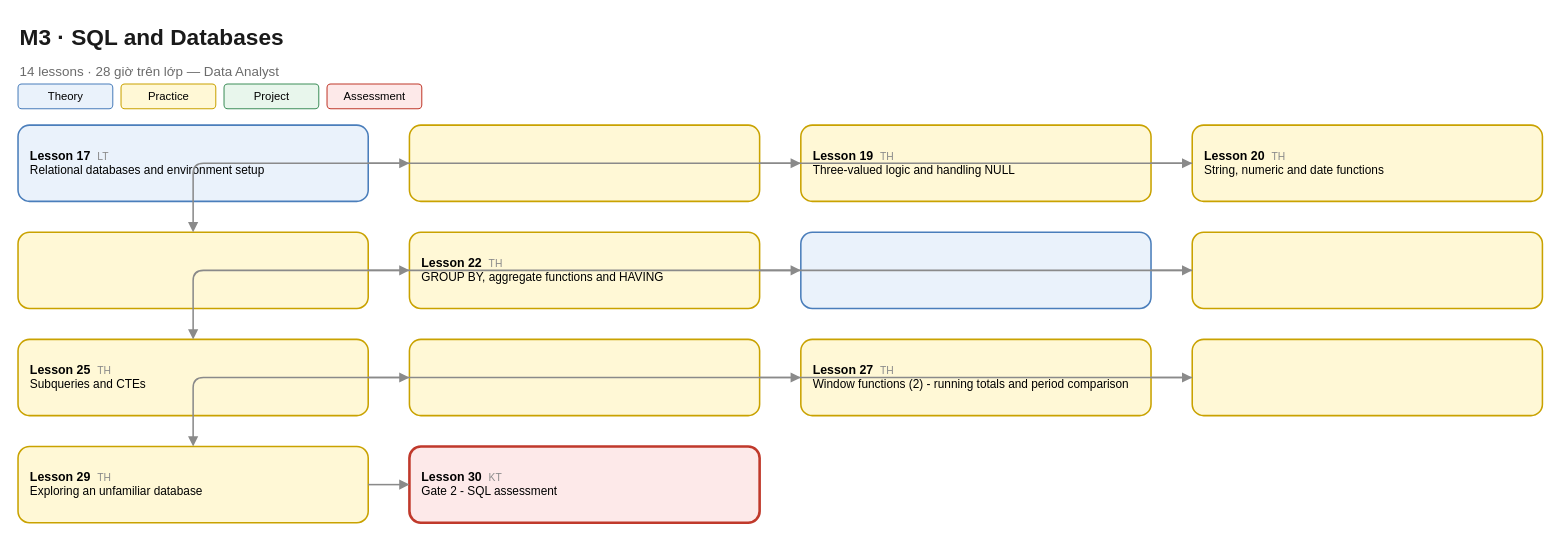
Image size: 1561x542. Some labels were removed from this diagram. Each missing label, with the centre of its shape:
"Lesson 18 TH SELECT, WHERE and logical execution order" goes at [584,163].
"Lesson 21 TH CASE WHEN and data classification" goes at [193,270].
"Lesson 23 LT JOIN (1) - the mechanism and four types" goes at [975,270].
"Lesson 24 TH JOIN (2) - row fan-out and multi-table joins" goes at [1367,270].
"Lesson 26 TH Window functions (1) - ranking and positioning" goes at [584,377].
"Lesson 28 TH Set operations and data quality in SQL" goes at [1367,377].
